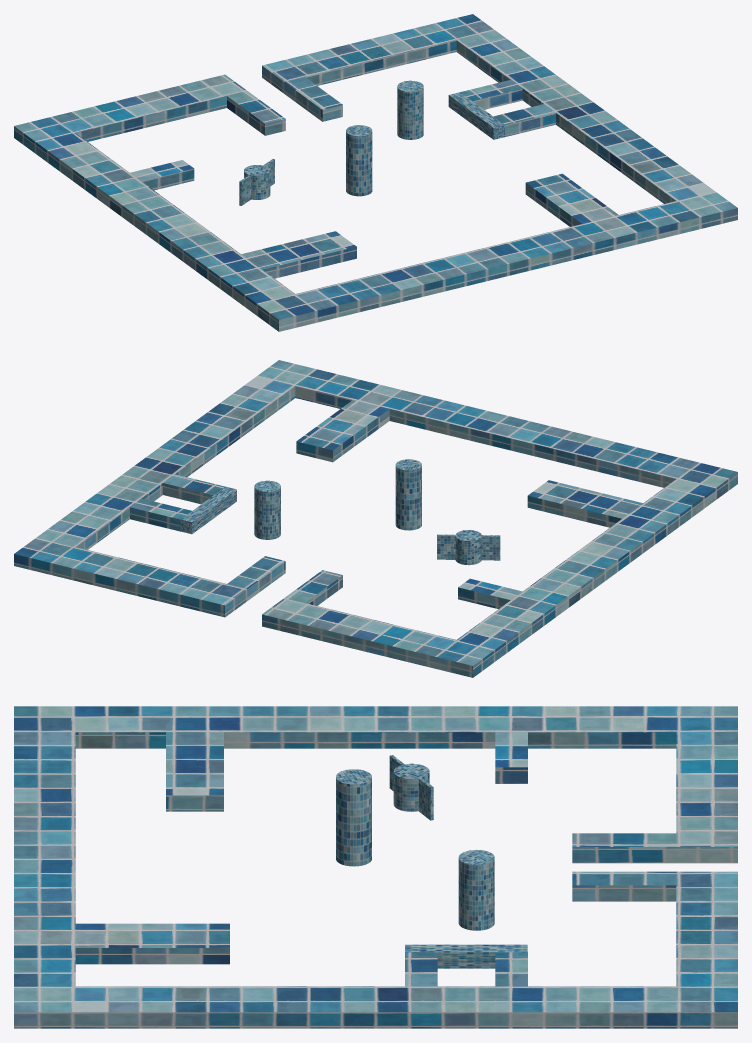
3 views of the same model, one above another, from view 1: azimuth 30°, elevation 25°; view 2: azimuth 150°, elevation 25°; view 3: azimuth 270°, elevation 25° (orthographic). The views are drawn at different scales.
Visible parts, largest first — view 1: Maze, Cylinder, Cylinder.002, Cube, propeller; view 2: Maze, Cylinder, propeller, Cylinder.002, Cube; view 3: Maze, Cylinder, Cylinder.002, propeller, Cube.
Boxes of the visible parts, x1,y1,x2,y2 form: Maze: [14, 14, 737, 331]; Cylinder: [346, 125, 372, 196]; Cylinder.002: [397, 80, 423, 139]; Cube: [448, 92, 504, 139]; propeller: [239, 159, 274, 205]; Maze: [14, 360, 737, 677]; Cylinder: [395, 459, 421, 530]; propeller: [437, 530, 500, 565]; Cylinder.002: [254, 480, 280, 539]; Cube: [180, 486, 236, 534]; Maze: [14, 706, 737, 1028]; Cylinder: [336, 769, 371, 866]; Cylinder.002: [458, 849, 494, 930]; propeller: [389, 755, 433, 820]; Cube: [405, 944, 527, 968].
Size of the model in its own units: 2000 by 251 by 2000.
